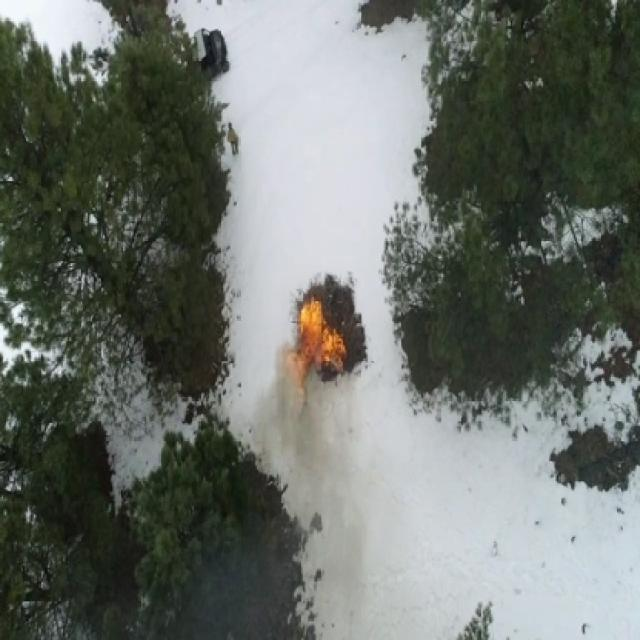Fire: (283, 292, 348, 392)
